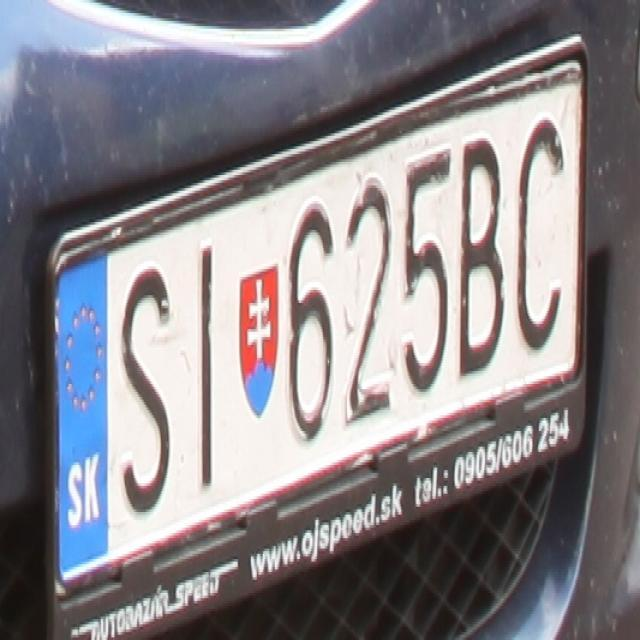2: (343, 170, 394, 423)
5: (401, 149, 449, 392)
6: (288, 206, 334, 444)
B: (458, 136, 504, 374)
C: (514, 112, 566, 353)
S: (121, 264, 172, 512)
